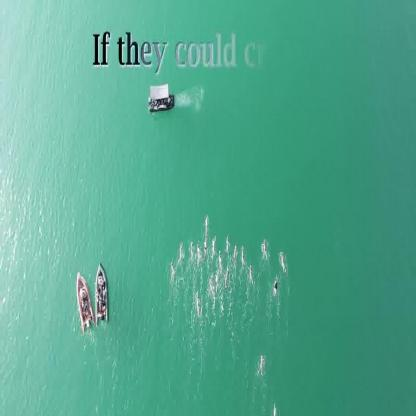Boat: (93, 260, 110, 322), (75, 271, 91, 332)
